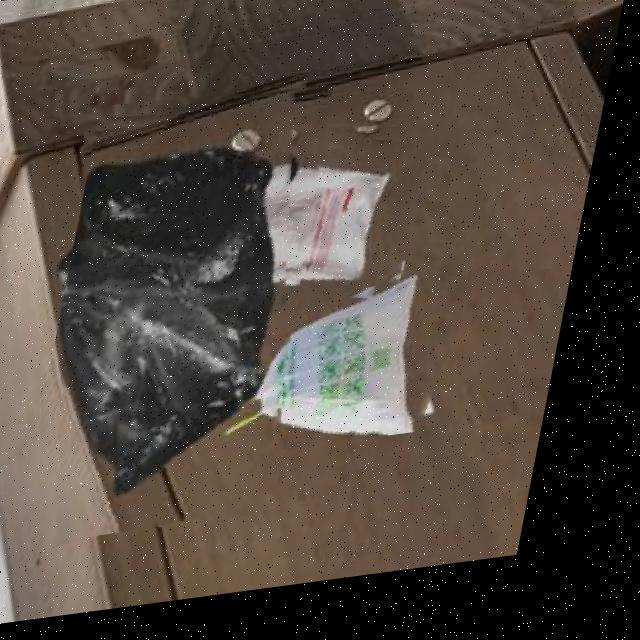litter: (38, 82, 351, 549), (188, 243, 493, 471), (250, 119, 441, 312)
